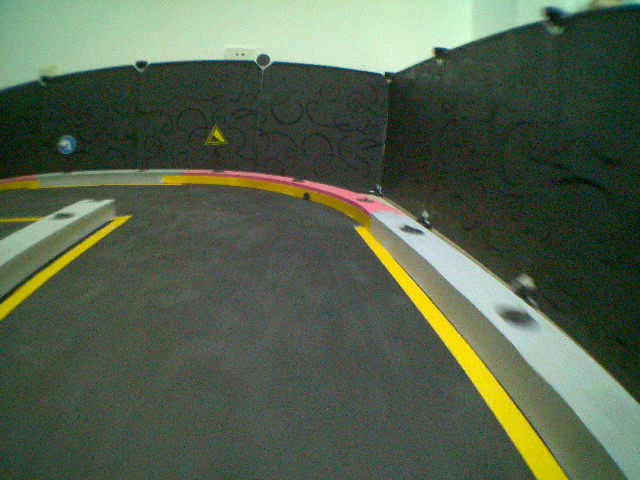fast: (205, 122, 226, 144)
turn: (56, 133, 78, 158)
